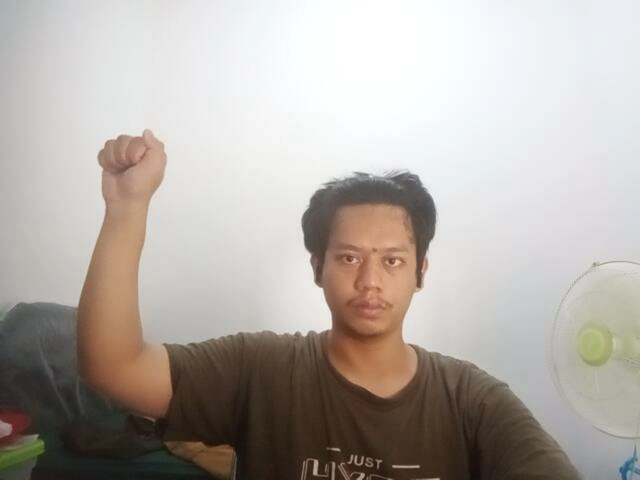A: (83, 118, 184, 213)
